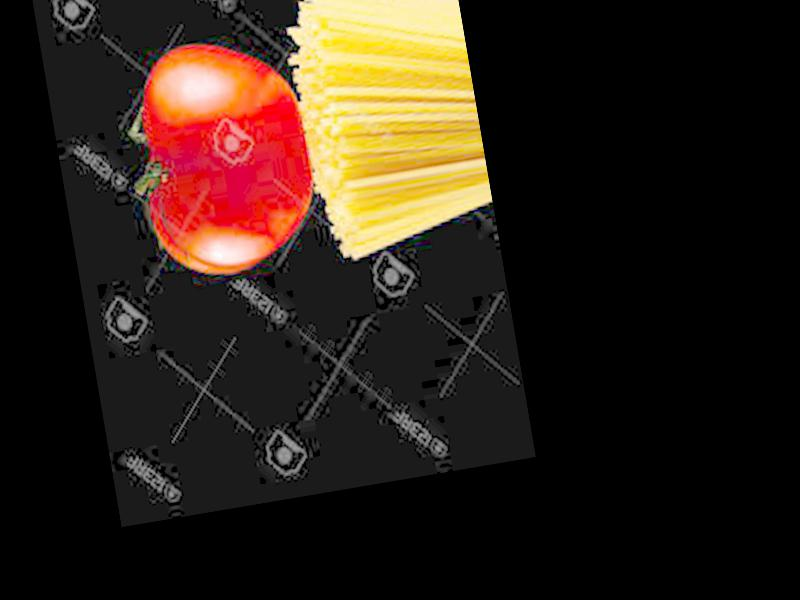Tomato: (123, 29, 327, 281)
